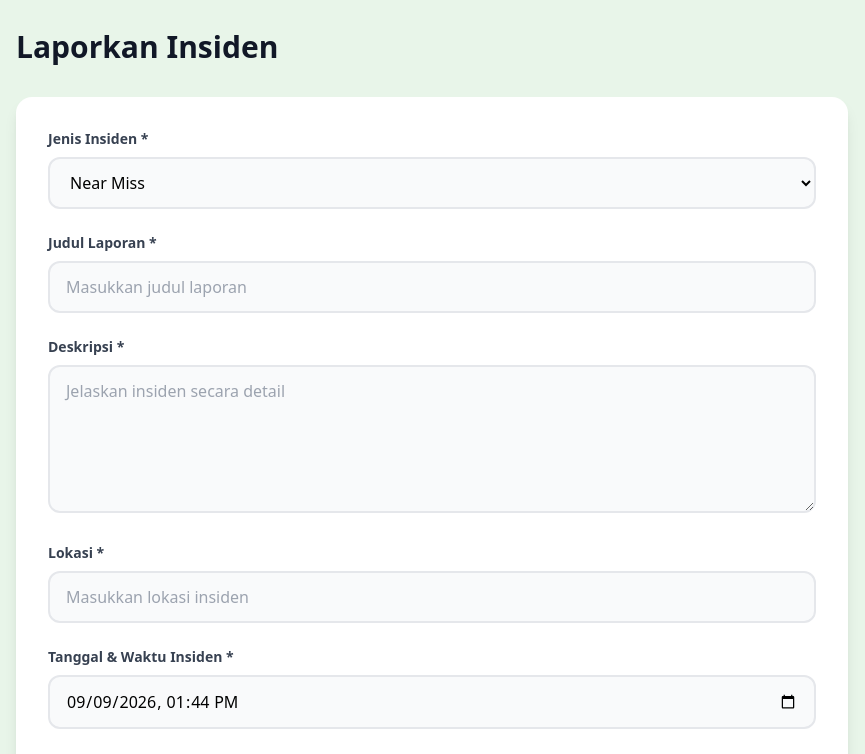
Test: ReportIncident Component › should display error message on submission failure
The image size is (865, 754).
Type "Test Incident" into the field labelled "Judul Laporan *". click: (432, 287)
box: x1=48 y1=261 x2=816 y2=313
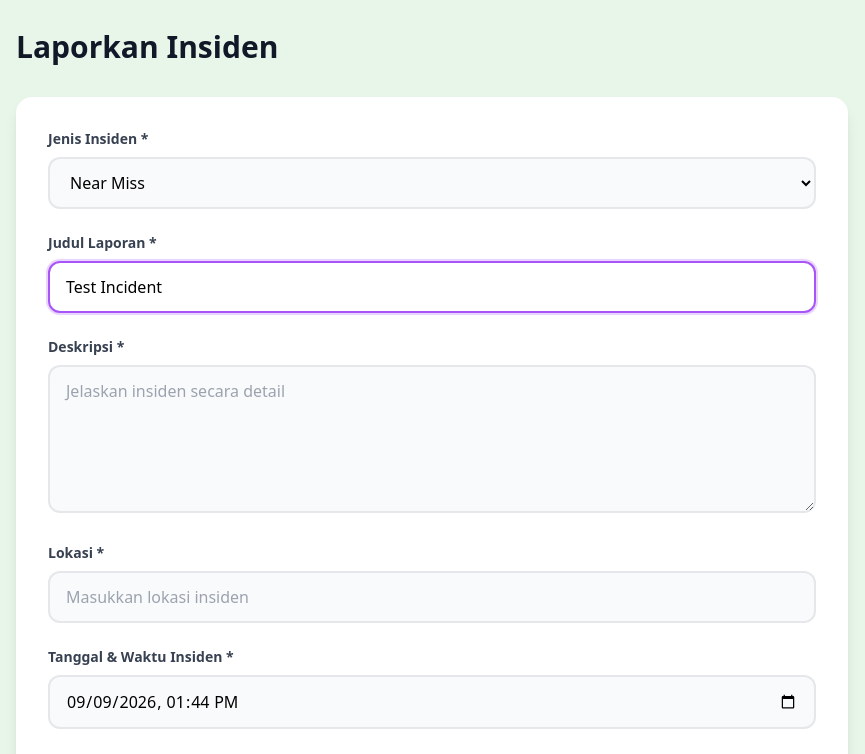
Type "Test Description" into the text box labelled "Deskripsi *". click: (432, 439)
box: x1=48 y1=365 x2=816 y2=513
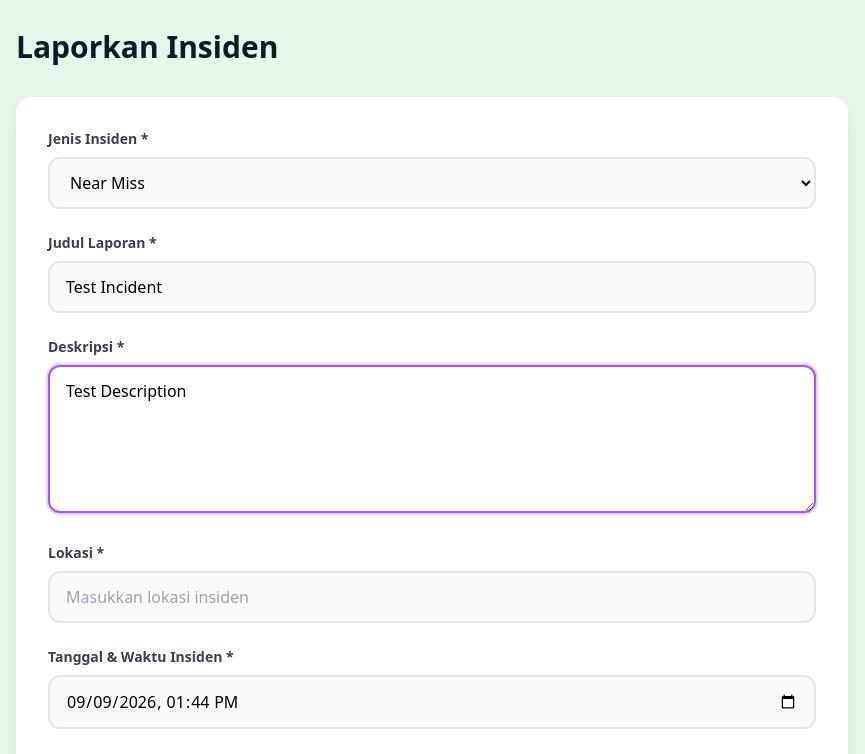
Type "Test Location" into the field labelled "Lokasi *". click: (432, 597)
box: x1=48 y1=571 x2=816 y2=623
(page scrolled)
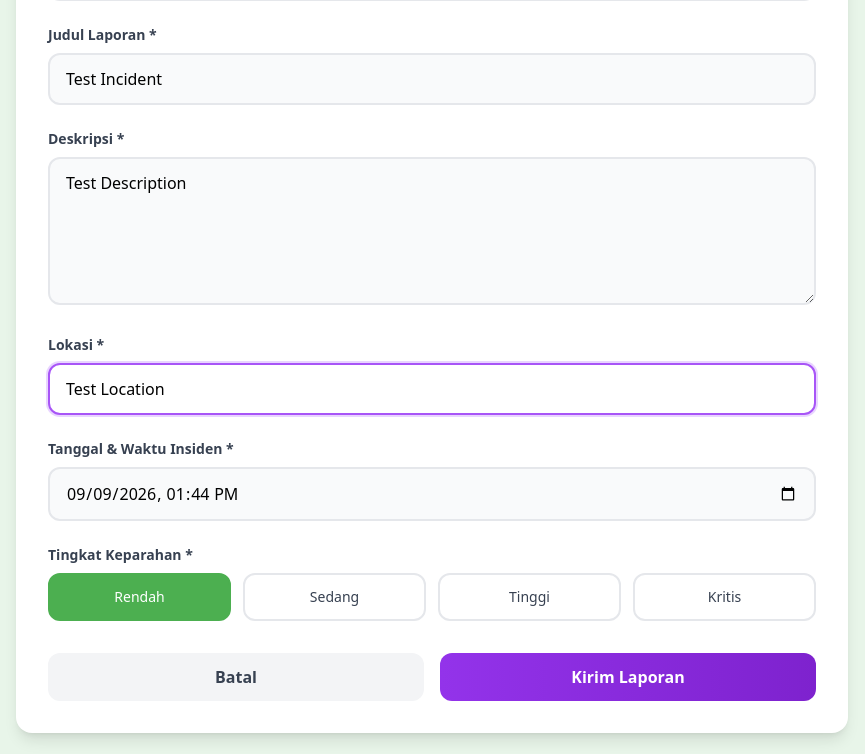
Click the button "Kirim Laporan". click: (628, 677)
box: x1=440 y1=653 x2=816 y2=701
(page scrolled)
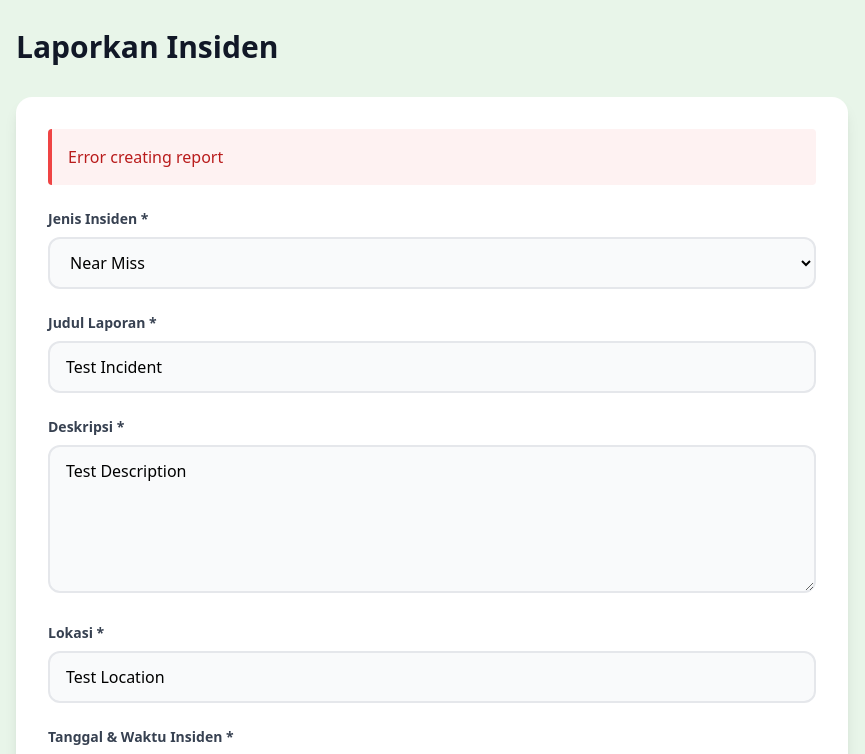
Check: the text "Error creating report" is shown, box x1=48 y1=129 x2=816 y2=185
